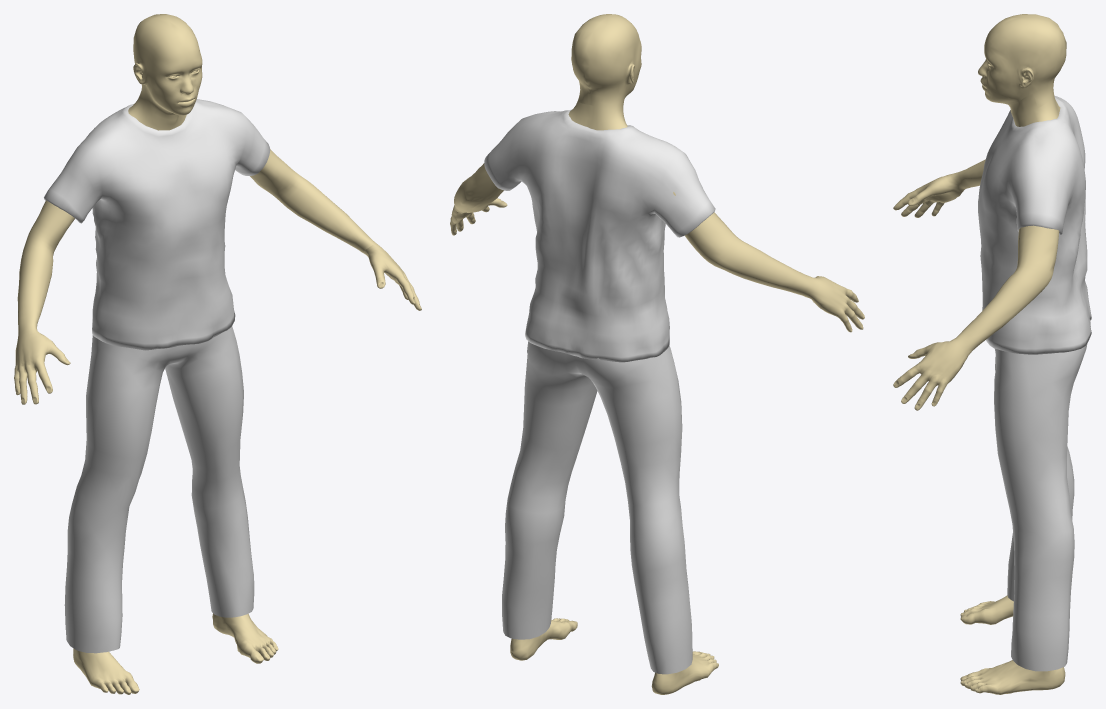
The model's file is malev6.glb.
The picture shows the model from 3 angles, left to right: view 1: azimuth 30°, elevation 25°; view 2: azimuth 150°, elevation 25°; view 3: azimuth 270°, elevation 25°; orthographic projection.
Visible parts, largest first — view 1: tshirt, pants, human; view 2: tshirt, pants, human; view 3: pants, human, tshirt.
Part boxes in pixels (box(x1,y1,x2,y2)): tshirt: box(44, 99, 270, 350); pants: box(64, 326, 254, 653); human: box(14, 14, 421, 694); tshirt: box(484, 109, 715, 362); pants: box(502, 341, 692, 674); human: box(450, 14, 864, 694); pants: box(994, 344, 1087, 671); human: box(893, 14, 1066, 694); tshirt: box(978, 95, 1091, 354).
Bounding box in the file's own units: 1.13 × 1.73 × 0.4888.
